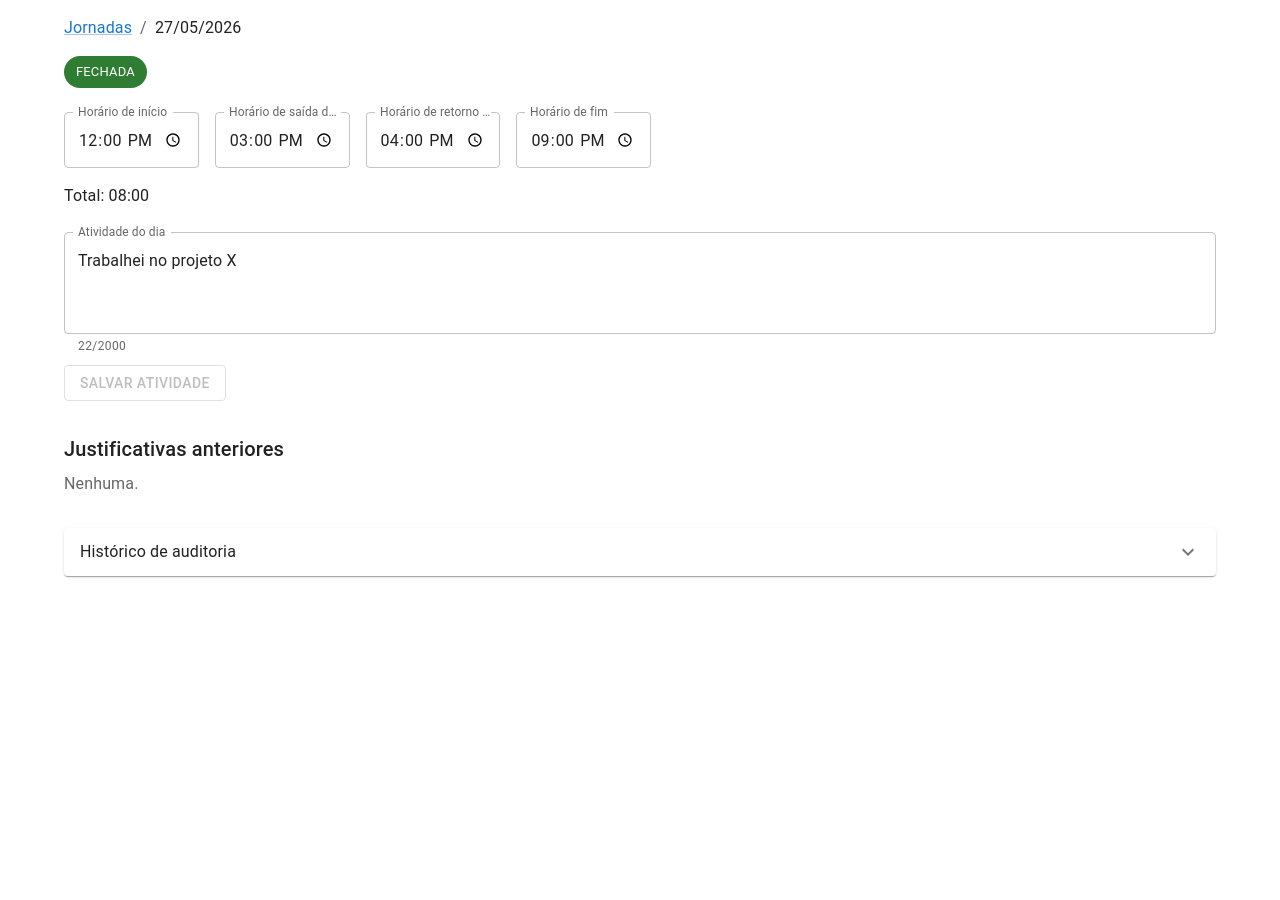
Test: JornadaDetalhePage › 422 VALIDATION_ERROR no PUT exibe alert com mensagem do backend dentro do modal
Replace the text in the time field labelled "Horário de início" with "19:00": (131, 140) [64, 112, 199, 168]
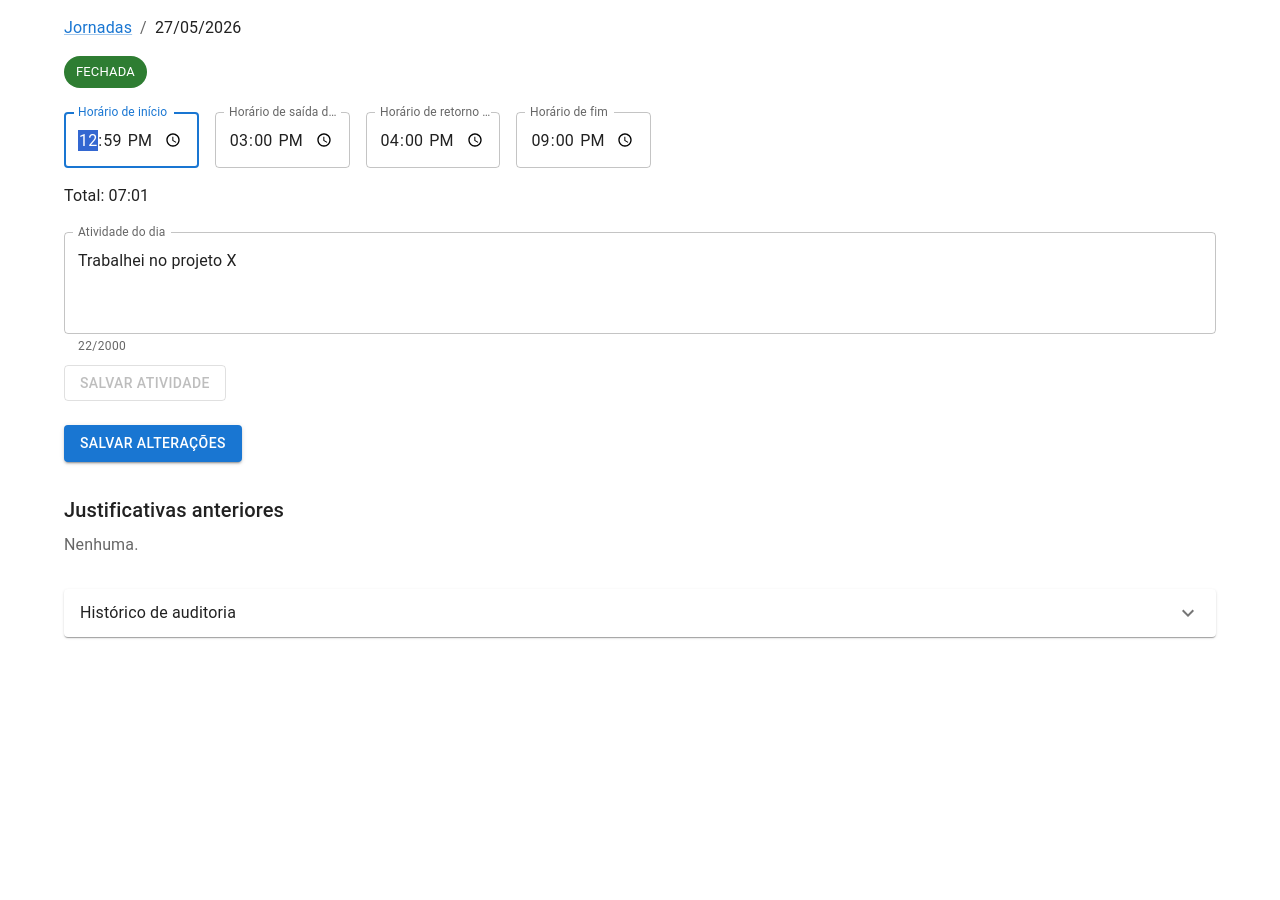
Press Tab
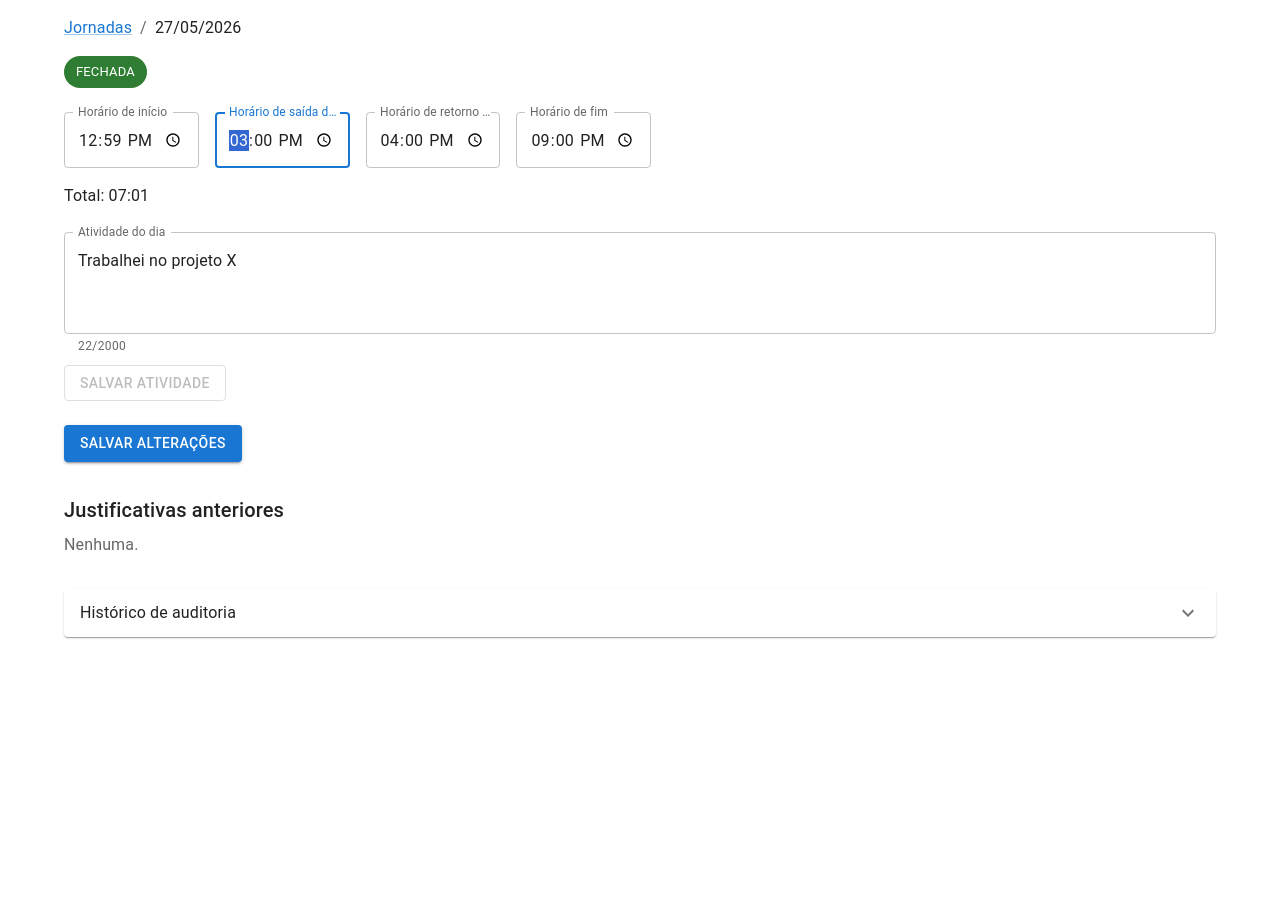
Click the button "Salvar alterações": (153, 444) [64, 425, 242, 462]
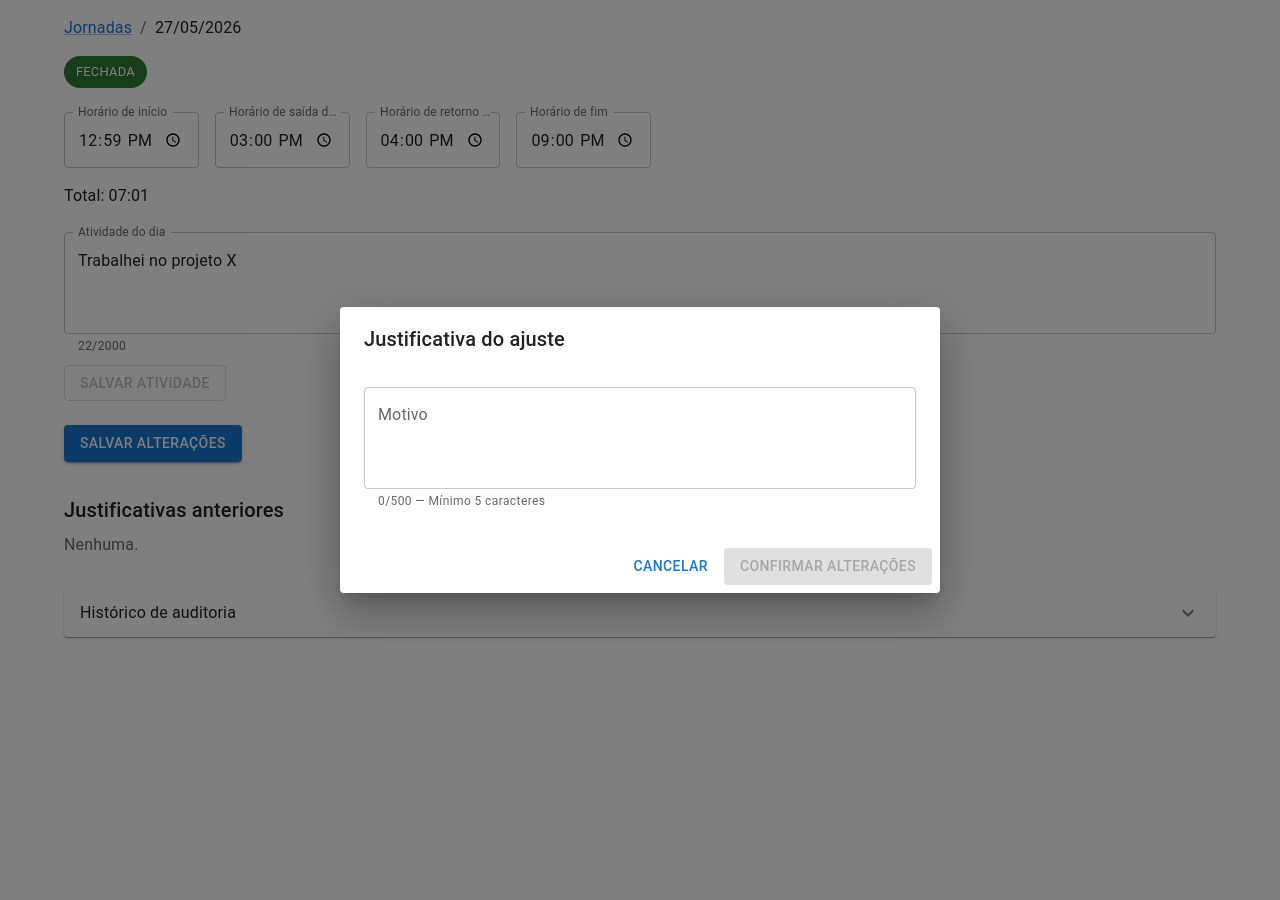
In the text box labelled "Motivo": (640, 438) [378, 404, 902, 473], type "tentando inverter"
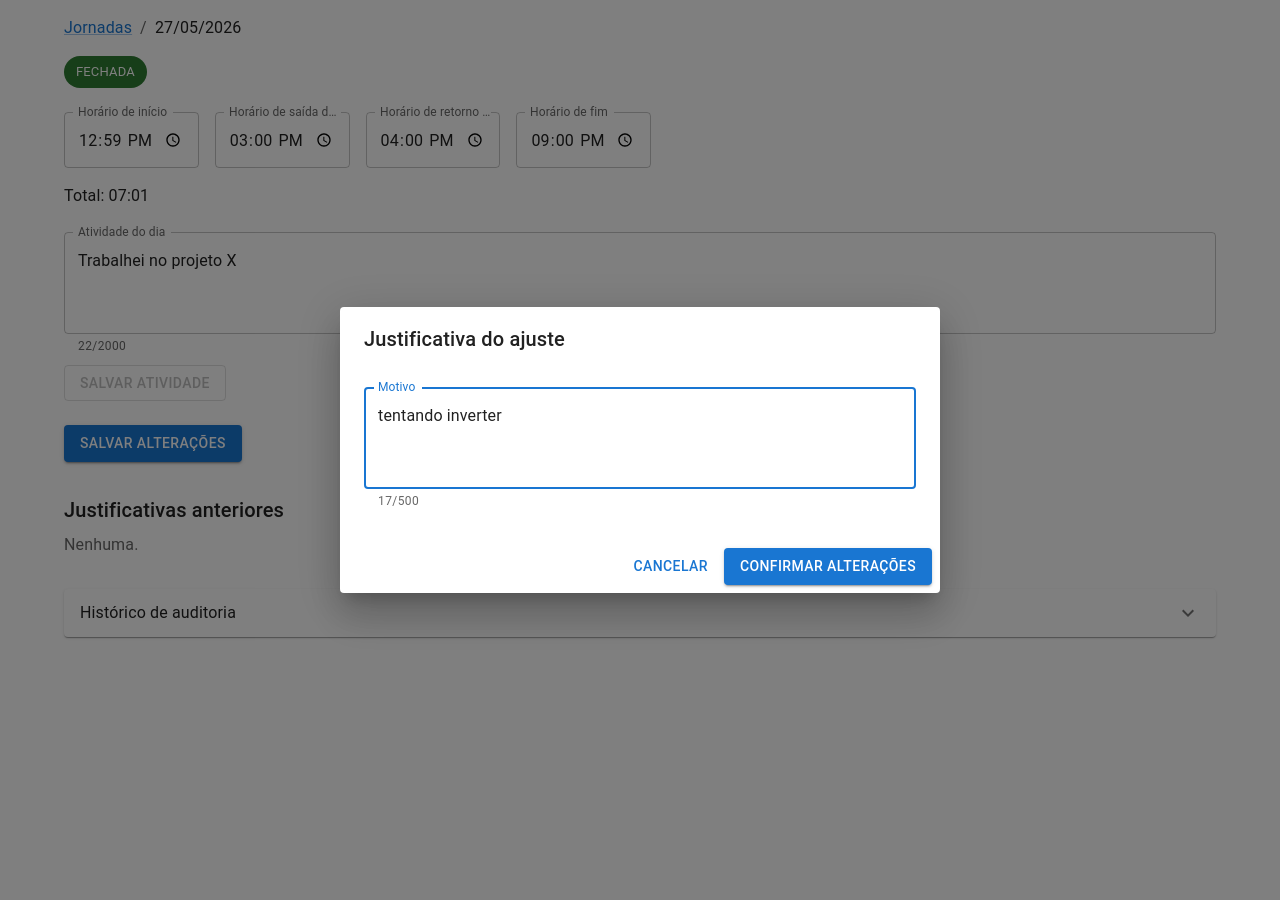
Click the button "Confirmar alterações": (828, 566) [724, 548, 932, 585]
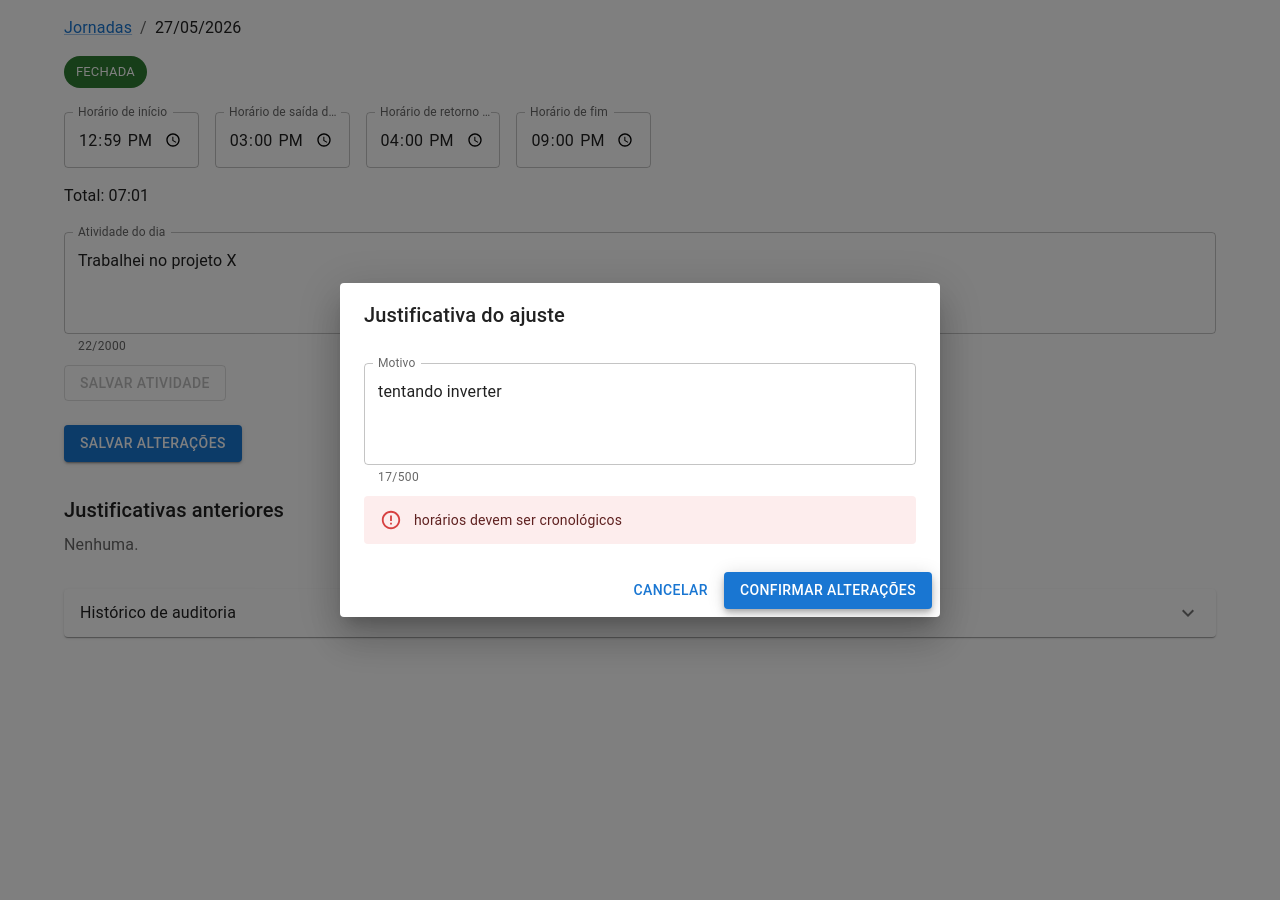
Check: the text "horários devem ser cronológicos" is shown, box [414, 512, 622, 528]
